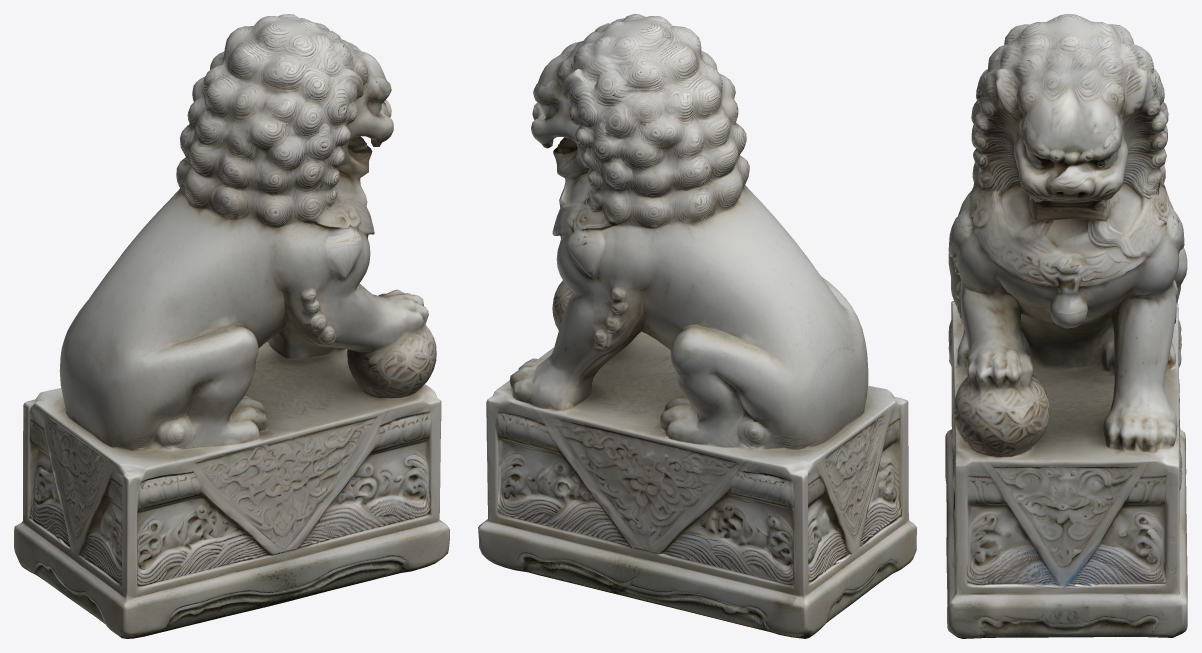
The model's file is shishi.glb.
3 renders of one model, left to right at view 1: azimuth 30°, elevation 25°; view 2: azimuth 150°, elevation 25°; view 3: azimuth 270°, elevation 25°, orthographic. The views are drawn at different scales.
Visible parts, largest first — view 1: tripo_node_98d23856-f680-4204-8c17-c09484b5a61e; view 2: tripo_node_98d23856-f680-4204-8c17-c09484b5a61e; view 3: tripo_node_98d23856-f680-4204-8c17-c09484b5a61e.
Part boxes in pixels (box(x1,y1,x2,y2)): tripo_node_98d23856-f680-4204-8c17-c09484b5a61e: box(14, 14, 449, 638); tripo_node_98d23856-f680-4204-8c17-c09484b5a61e: box(478, 14, 916, 638); tripo_node_98d23856-f680-4204-8c17-c09484b5a61e: box(945, 14, 1187, 638).
Bounding box in the file's own units: 0.6589 × 1 × 0.3856.
1 material, 1 textured.
